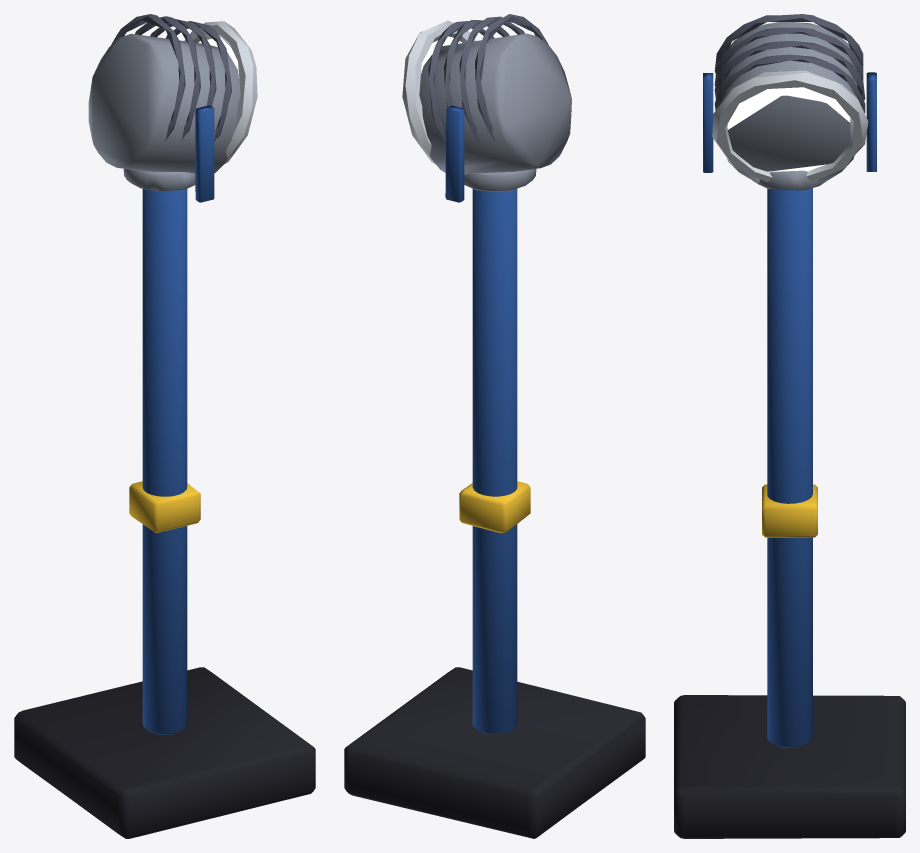
File: searchlight.glb
3 renders of one model, left to right at view 1: azimuth 30°, elevation 25°; view 2: azimuth 150°, elevation 25°; view 3: azimuth 270°, elevation 25°, orthographic. The views are drawn at different scales.
Visible parts, largest first — view 1: searchlight.005, head.094; view 2: searchlight.005, head.094; view 3: searchlight.005, head.094.
Part boxes in pixels (left/top/right/bottom): searchlight.005: left=14, top=168, right=315, bottom=838; head.094: left=88, top=14, right=257, bottom=202; searchlight.005: left=344, top=169, right=645, bottom=838; head.094: left=402, top=14, right=571, bottom=202; searchlight.005: left=674, top=170, right=905, bottom=838; head.094: left=703, top=14, right=876, bottom=182.
Bounding box in the file's own units: 1.19 × 4.41 × 1.19.
Materials: 1 (1 with a texture image).
